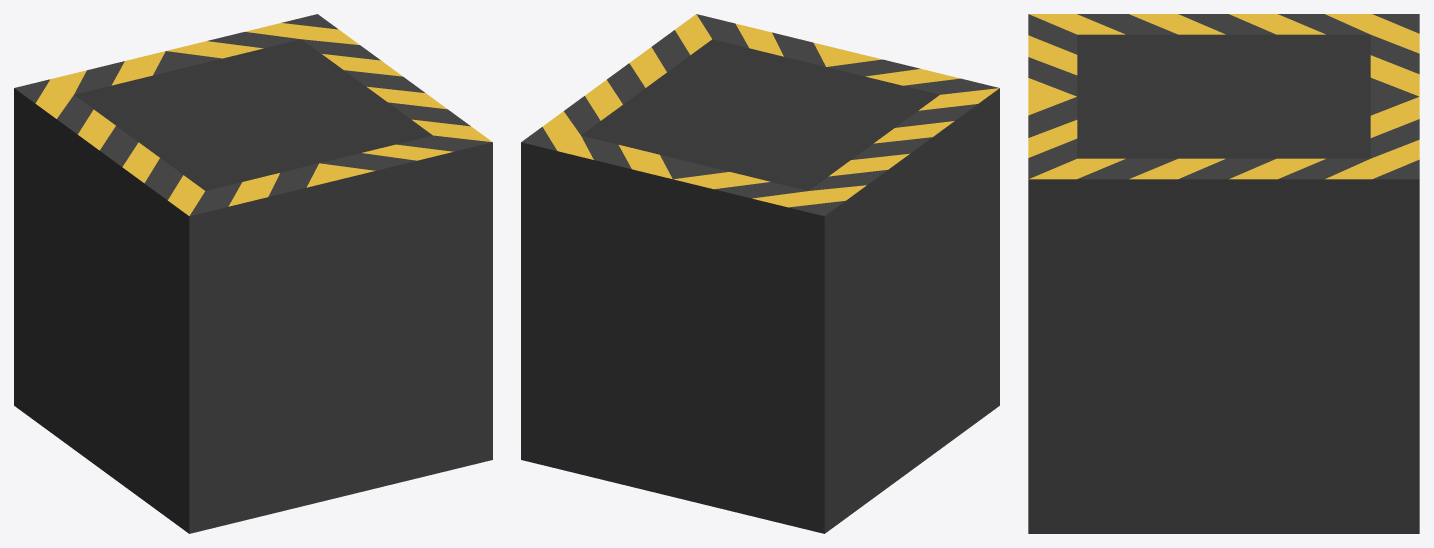
The model's file is Factory_FloorBlock.fbx.
3 views of the same model, side by side, from view 1: azimuth 30°, elevation 25°; view 2: azimuth 150°, elevation 25°; view 3: azimuth 270°, elevation 25° (orthographic). The views are drawn at different scales.
Visible parts, largest first — view 1: FactoryFloorBlock; view 2: FactoryFloorBlock; view 3: FactoryFloorBlock.
Part boxes in pixels (left/top/right/bottom): FactoryFloorBlock: left=14, top=14, right=492, bottom=533; FactoryFloorBlock: left=521, top=14, right=999, bottom=533; FactoryFloorBlock: left=1028, top=14, right=1419, bottom=533.
Bounding box in the file's own units: 100 × 100 × 100.
